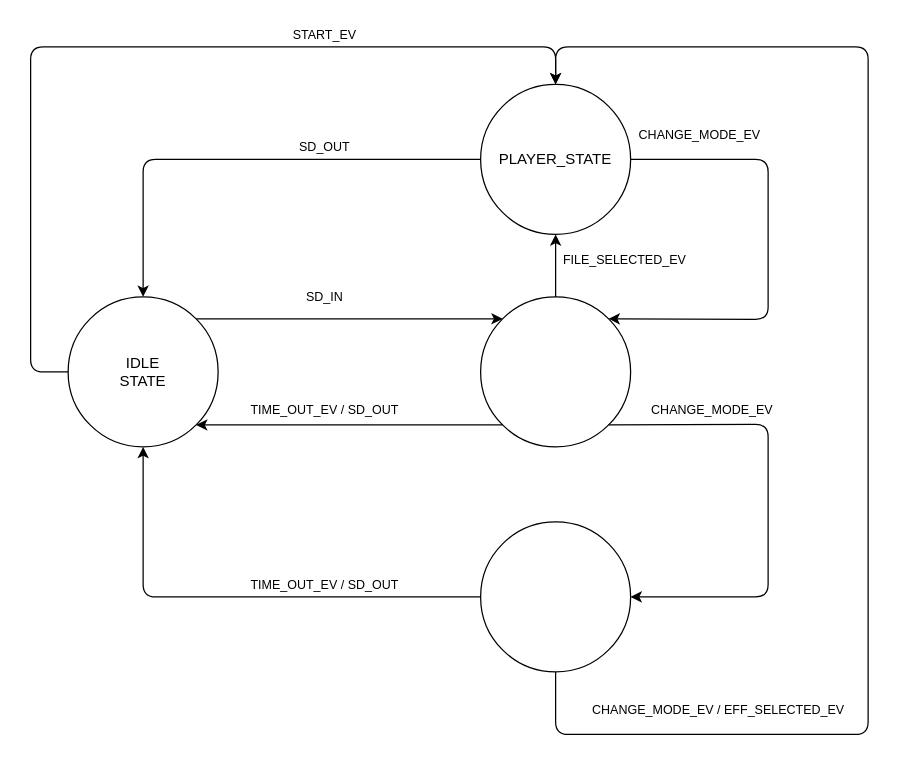
Some shapes in this 900 by 766 pixel diagram are drawn without their labels. Here are the shapes that lost their labels. From the top down, the centre of each, then its label:
point 555,371: FILE_SELECTION STATE
point 555,596: EFFECTS STATE
